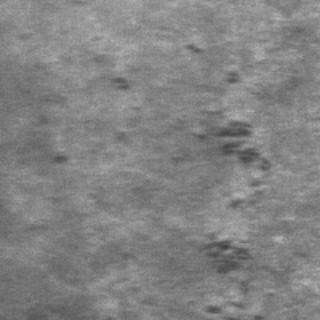rolled pit: (190, 108, 270, 208), (200, 229, 268, 317)
